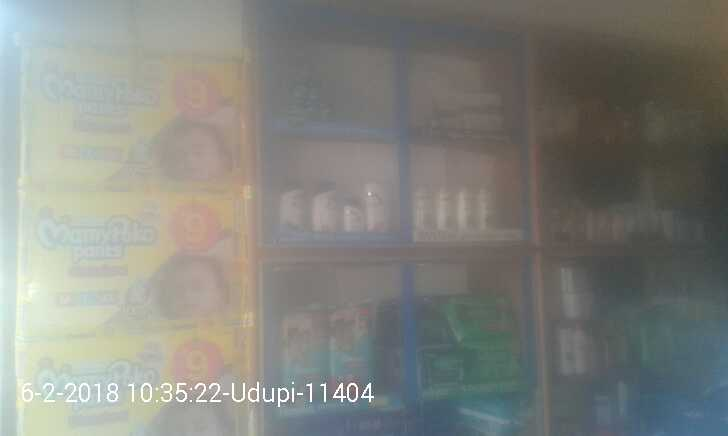beauty: (458, 82, 520, 138), (279, 173, 309, 237), (475, 189, 506, 247), (313, 170, 340, 236), (408, 175, 433, 242), (432, 81, 459, 135), (366, 180, 391, 234), (343, 187, 366, 235), (433, 180, 451, 228), (454, 186, 472, 232)
pharmacy: (283, 307, 333, 407), (461, 327, 536, 381), (333, 305, 377, 394), (443, 291, 529, 329), (426, 344, 465, 386)
